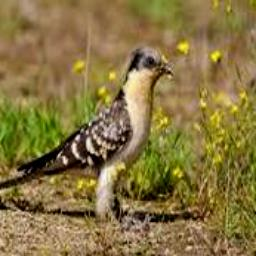Cuckoo: (0, 46, 173, 222)
